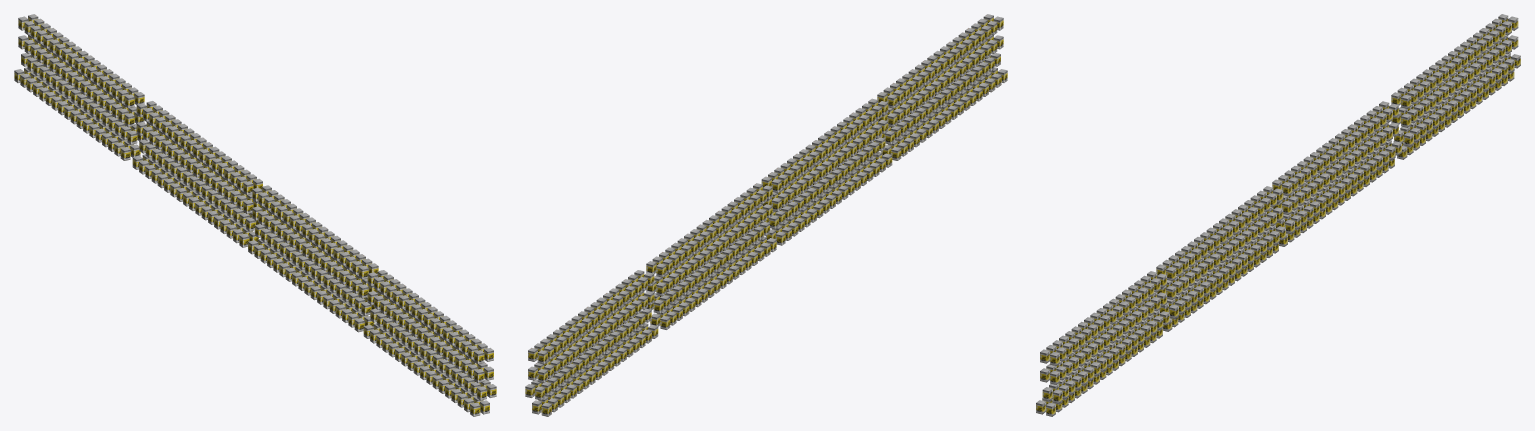
The model's file is Left_LightBulbs.fbx.
3 views of the same model, side by side, from view 1: azimuth 30°, elevation 25°; view 2: azimuth 150°, elevation 25°; view 3: azimuth 330°, elevation 25° (orthographic).
Visible parts, largest first — view 1: polySurface472; view 2: polySurface472; view 3: polySurface472.
Part boxes in pixels (box(x1,y1,x2,y2)): polySurface472: box(14, 14, 496, 416); polySurface472: box(525, 14, 1007, 416); polySurface472: box(1036, 14, 1520, 416).
Size of the model in its own units: 0.5288 by 1.36 by 18.35.
